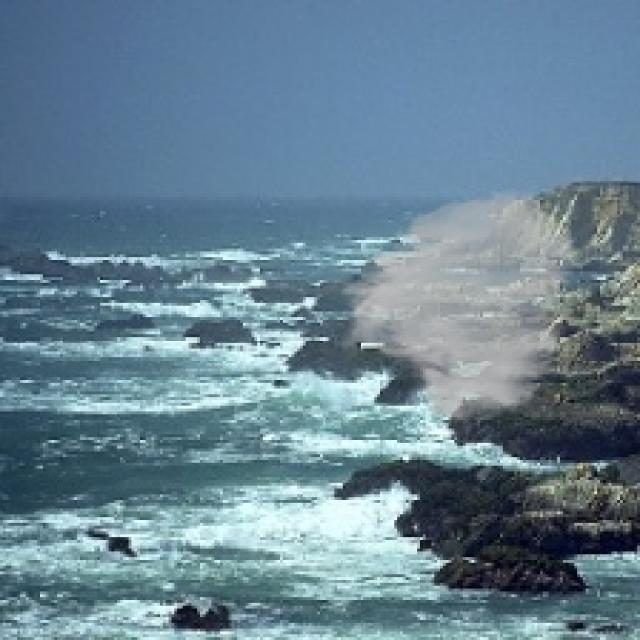smoke: (334, 188, 583, 426)
